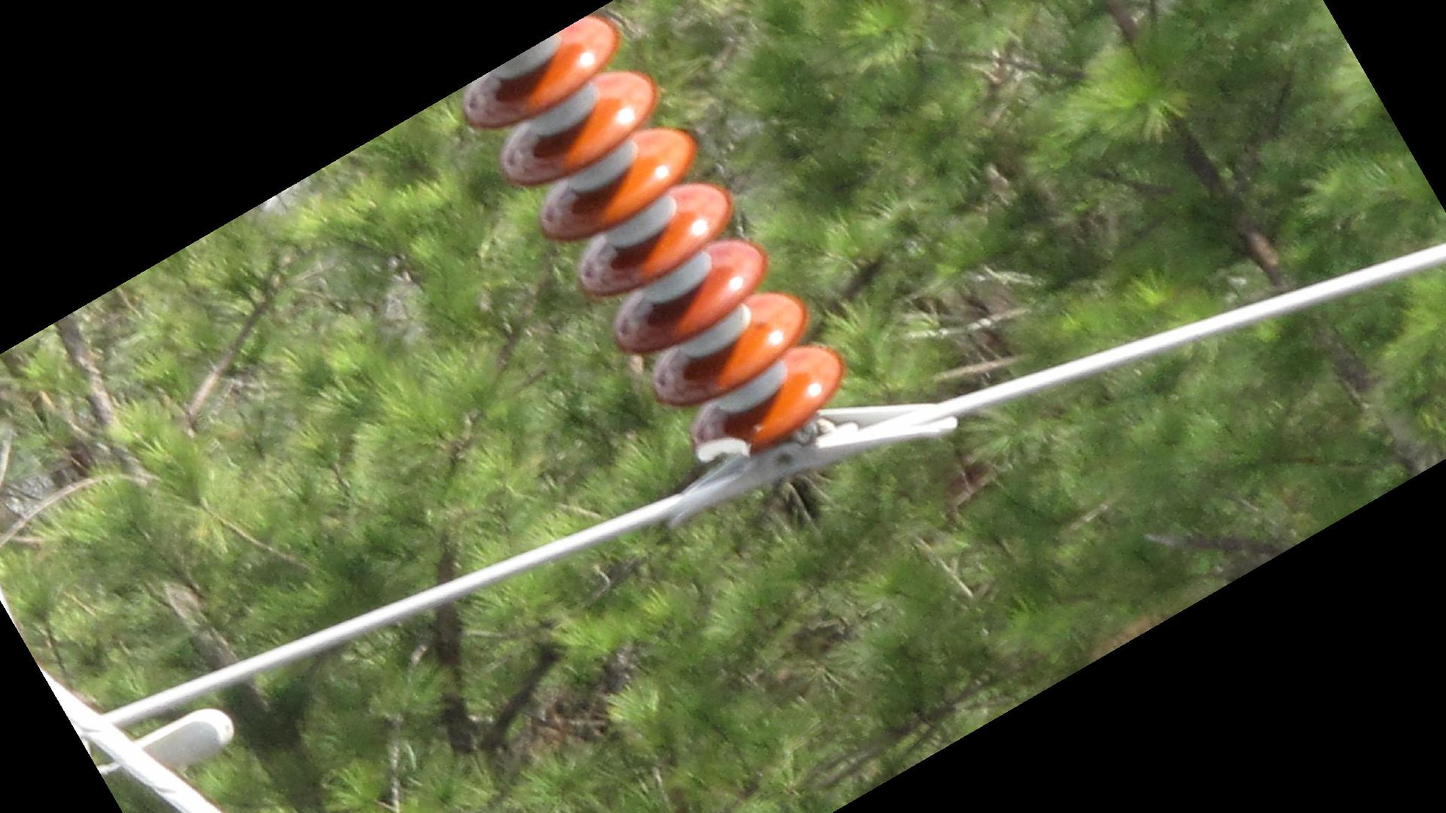insulator: (456, 12, 849, 475)
insulator_breakage: (690, 430, 760, 469)
